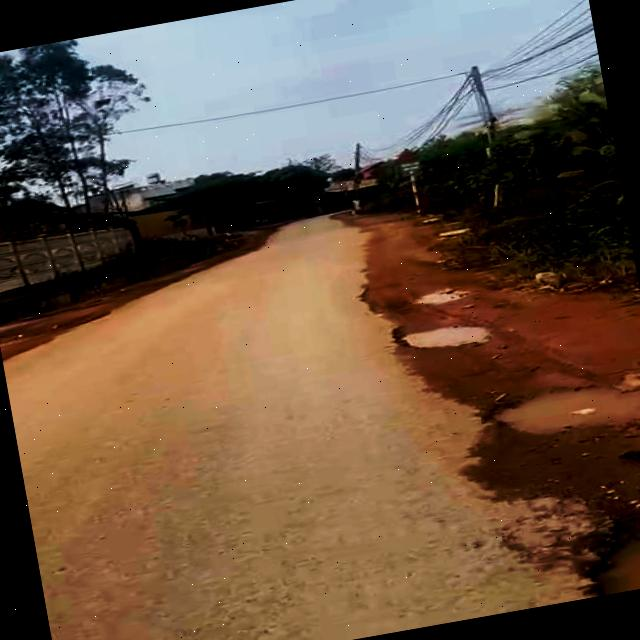pothole: (469, 356, 640, 467), (561, 493, 640, 600), (385, 308, 498, 360)
